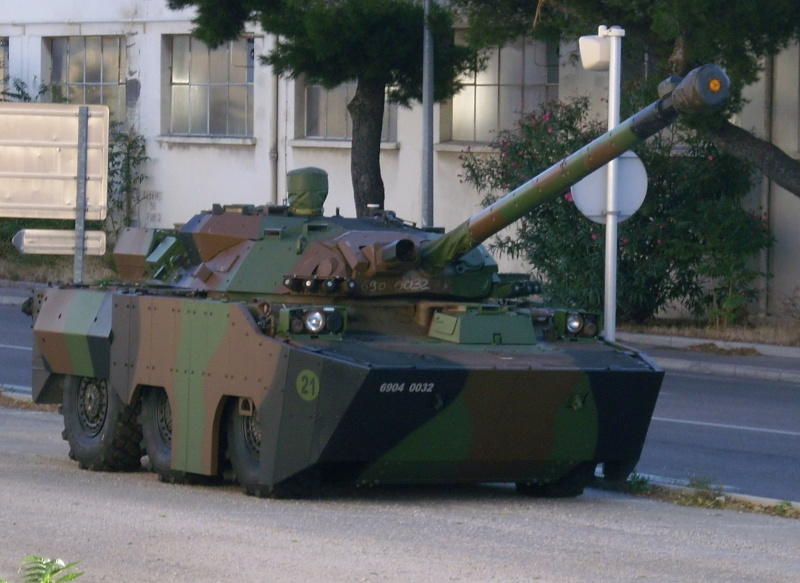license_plate: (378, 378, 439, 398)
